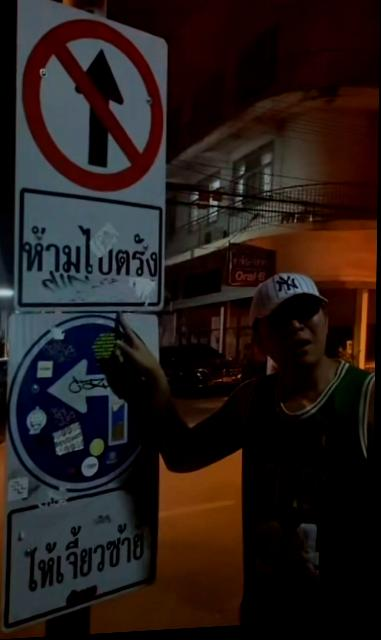not_go_straight: (27, 0, 166, 199)
